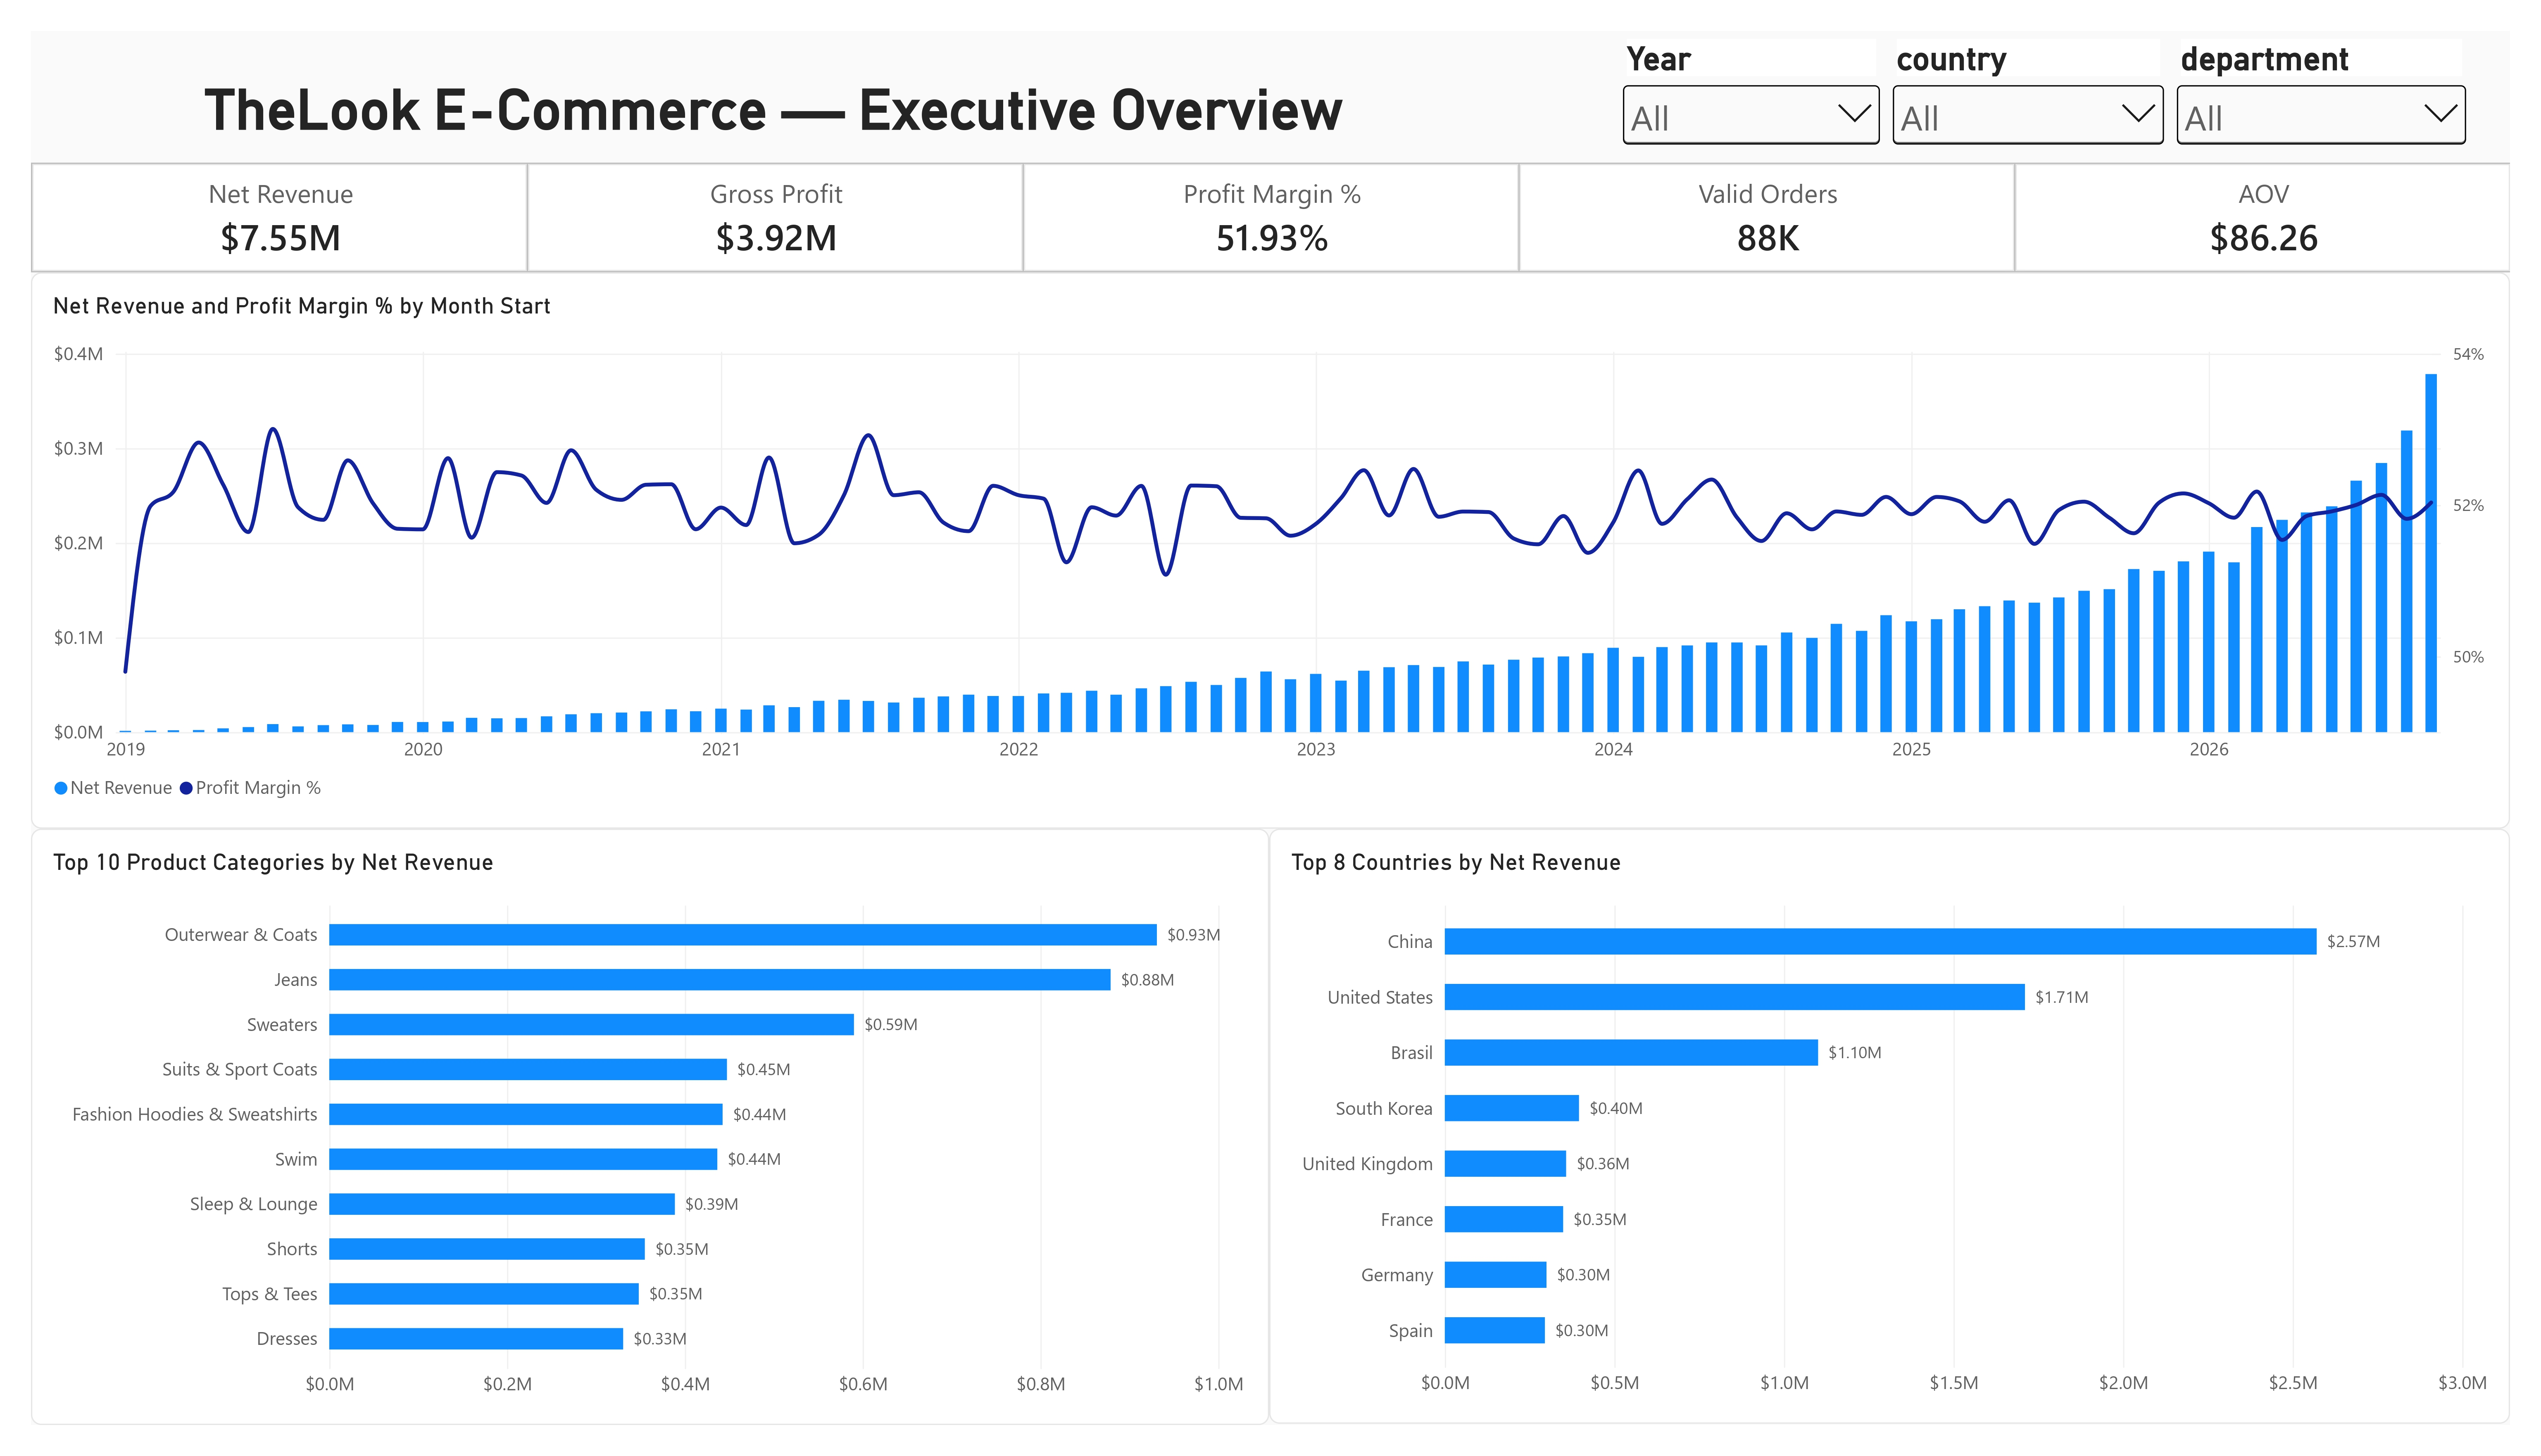

This screenshot's page, from the dashboard's own definition file:
{"tool":"powerbi","page":{"name":"Executive Overview","canvas":[1920,1080],"ordinal":0},"visuals":[{"type":"slicer","fields":{"Values":["Dim_Date.Year"]},"box":[1227.8,5.6,209.3,138.9],"z":0},{"type":"cardVisual","fields":{"Data":["_Measures.Net Revenue","_Measures.Gross Profit","_Measures.Profit Margin %","_Measures.Valid Orders","_Measures.AOV"]},"box":[0,101.8,1920.8,85.4],"z":1000},{"type":"lineStackedColumnComboChart","fields":{"Category":["Dim_Date.Month Start"],"Y":["_Measures.Net Revenue"],"Y2":["_Measures.Profit Margin %"]},"box":[0,187.5,1919.6,430.4],"z":2000},{"type":"clusteredBarChart","title":"Top 10 Product Categories by Net Revenue","fields":{"Category":["dim_products.category"],"Y":["_Measures.Net Revenue"]},"box":[0,617.9,958.9,462.5],"z":3000},{"type":"clusteredBarChart","title":"Top 8 Countries by Net Revenue","fields":{"Category":["dim_customers_rfm.country"],"Y":["_Measures.Net Revenue"]},"box":[958.9,617.9,960.7,460.7],"z":4000},{"type":"slicer","fields":{"Values":["dim_customers_rfm.country"]},"box":[1437,5.6,220.4,138.9],"z":5000},{"type":"slicer","fields":{"Values":["dim_products.department"]},"box":[1657.4,5.6,233.3,138.9],"z":6000},{"type":"textbox","box":[133.9,35.7,1172.2,77.8],"z":7000}]}

Visuals, with their boxes on the page's 1920x1080 design canvas (x1, y1, x2, y2). These are canvas units, not pixel positions in the 2541x1456 screenshot, which may show the page scaled, cropped or inside an application window:
slicer - Dim_Date.Year: {"x1": 1228, "y1": 6, "x2": 1437, "y2": 144}
cardVisual - _Measures.Net Revenue x _Measures.Gross Profit: {"x1": 0, "y1": 102, "x2": 1921, "y2": 187}
lineStackedColumnComboChart - Dim_Date.Month Start x _Measures.Net Revenue: {"x1": 0, "y1": 188, "x2": 1920, "y2": 618}
"Top 10 Product Categories by Net Revenue" clusteredBarChart: {"x1": 0, "y1": 618, "x2": 959, "y2": 1080}
"Top 8 Countries by Net Revenue" clusteredBarChart: {"x1": 959, "y1": 618, "x2": 1920, "y2": 1079}
slicer - dim_customers_rfm.country: {"x1": 1437, "y1": 6, "x2": 1657, "y2": 144}
slicer - dim_products.department: {"x1": 1657, "y1": 6, "x2": 1891, "y2": 144}
textbox: {"x1": 134, "y1": 36, "x2": 1306, "y2": 114}
